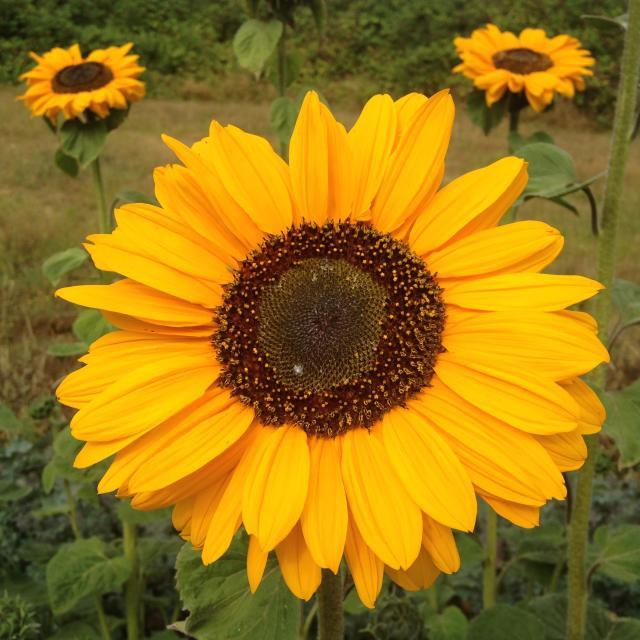sunflower: (53, 87, 611, 609), (452, 22, 595, 113), (15, 41, 146, 123)
